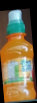orange: (1, 10, 36, 102)
